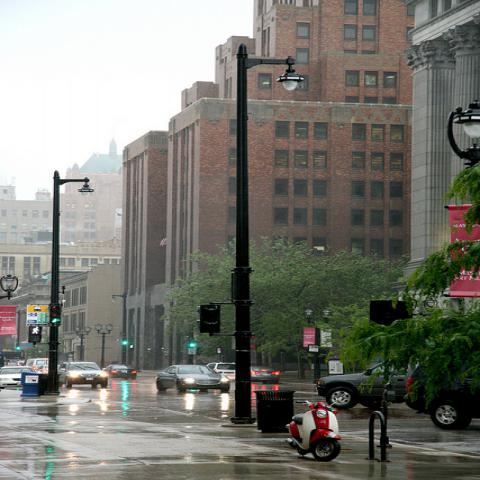car: (401, 350, 479, 431), (317, 360, 421, 410), (157, 365, 229, 392), (58, 362, 108, 390), (0, 366, 37, 389), (251, 366, 283, 385), (206, 362, 236, 380), (102, 365, 137, 380), (25, 358, 48, 370), (33, 365, 48, 373), (8, 362, 16, 367)
motorcycle: (285, 400, 342, 462)
